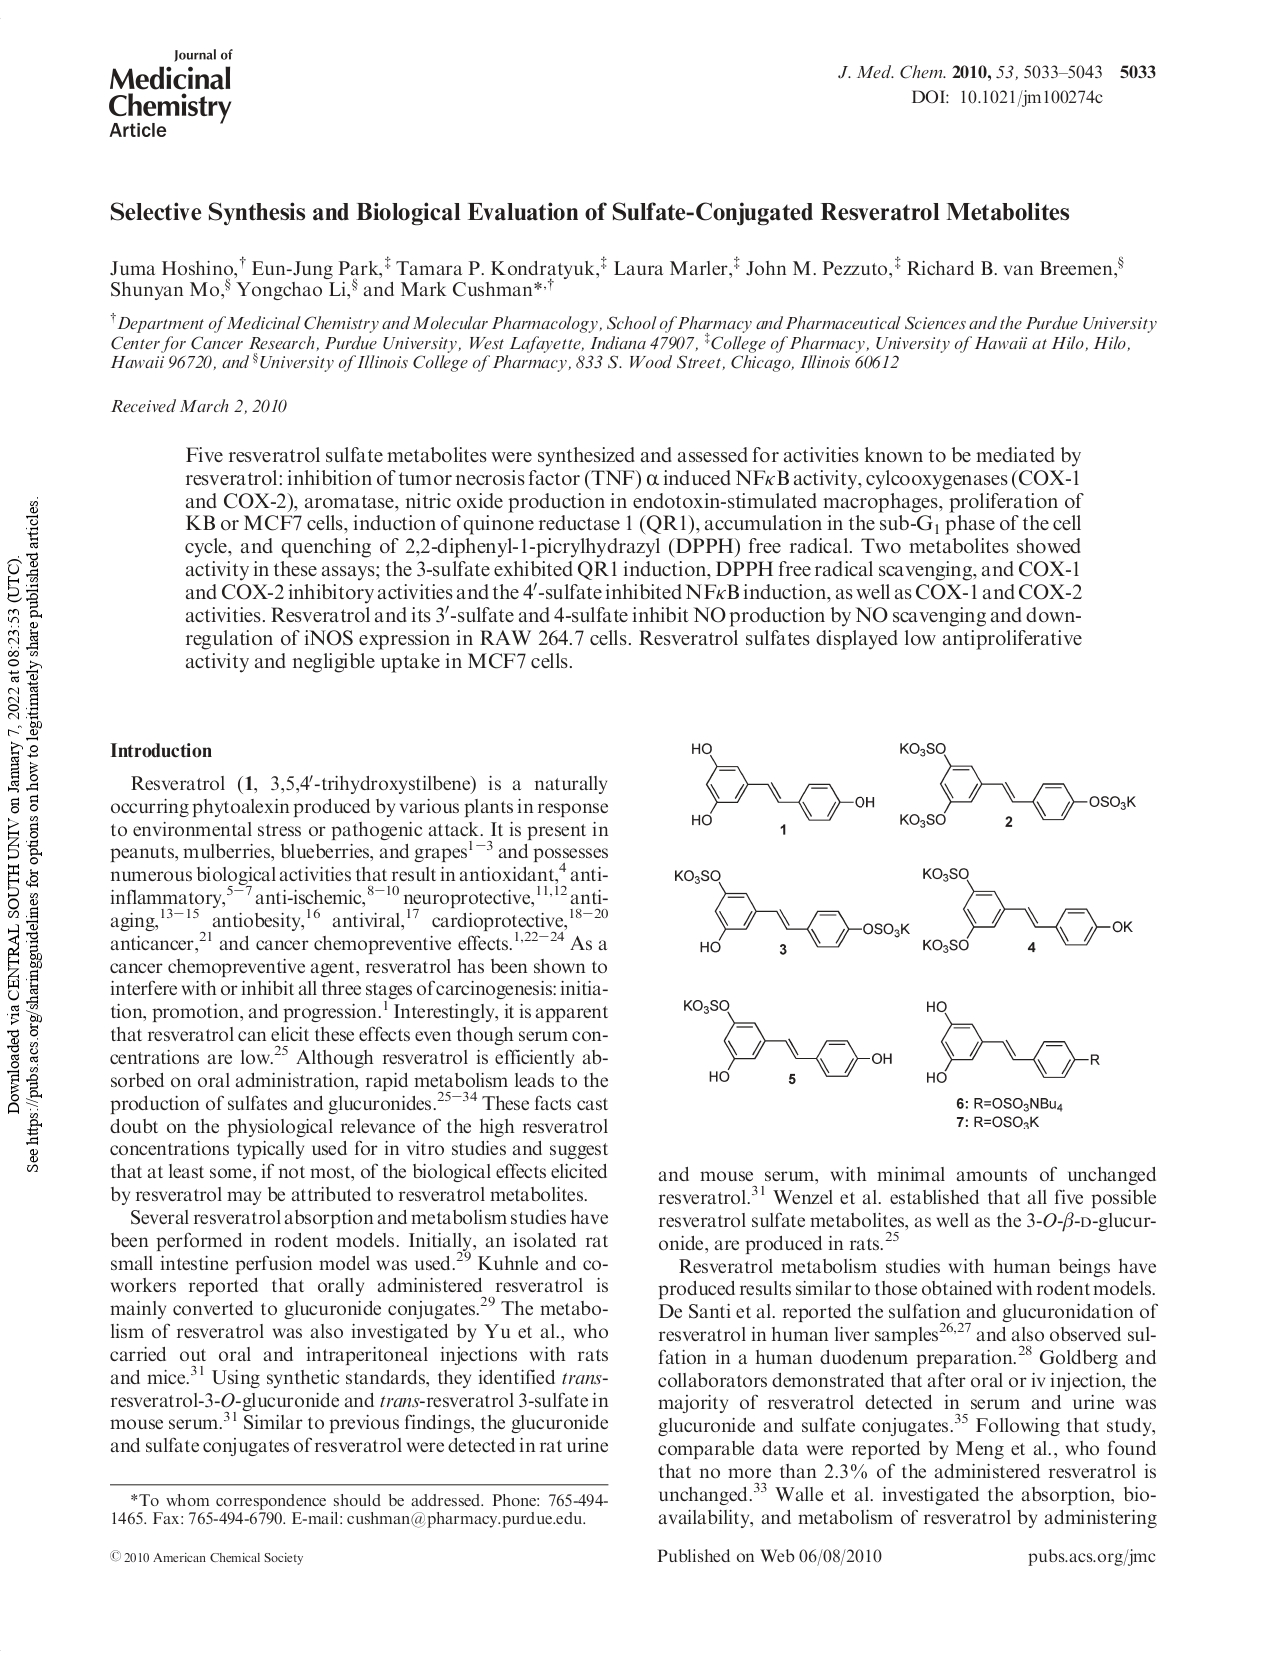exist_molecular: (892, 735, 1144, 833), (668, 860, 911, 956), (916, 860, 1134, 958), (680, 991, 895, 1087), (685, 737, 876, 833), (916, 997, 1104, 1087)
